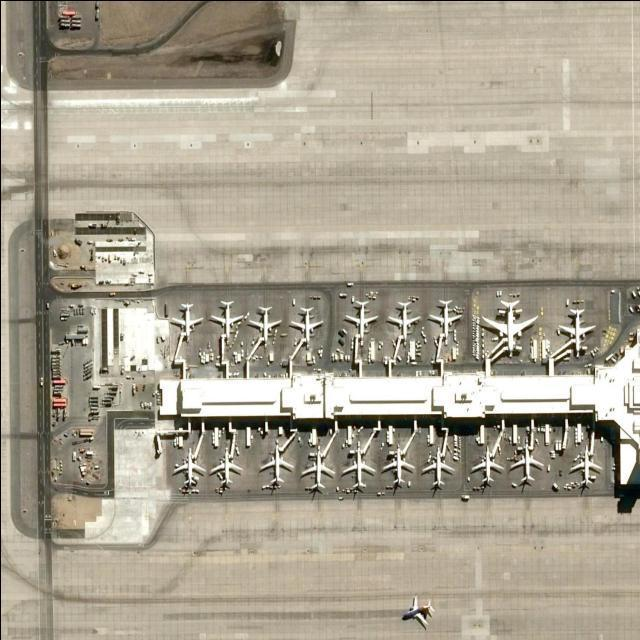Aircraft: (481, 296, 540, 355), (557, 306, 595, 358), (337, 445, 377, 491), (256, 445, 294, 489), (298, 448, 334, 493), (507, 445, 543, 489), (469, 445, 505, 489), (207, 300, 245, 340), (380, 445, 416, 487), (420, 446, 454, 490), (343, 299, 379, 339), (247, 303, 283, 343), (209, 448, 243, 490), (386, 299, 420, 341), (170, 449, 205, 489), (568, 448, 602, 488), (427, 300, 461, 340), (399, 594, 435, 629), (289, 306, 324, 342), (170, 304, 204, 339)
